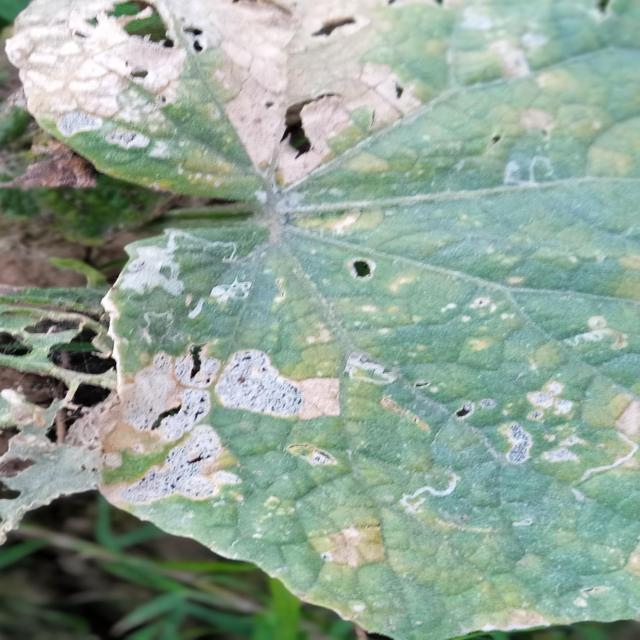cucumber_anthracnose: (132, 207, 633, 527), (47, 13, 627, 158), (0, 310, 107, 524)
